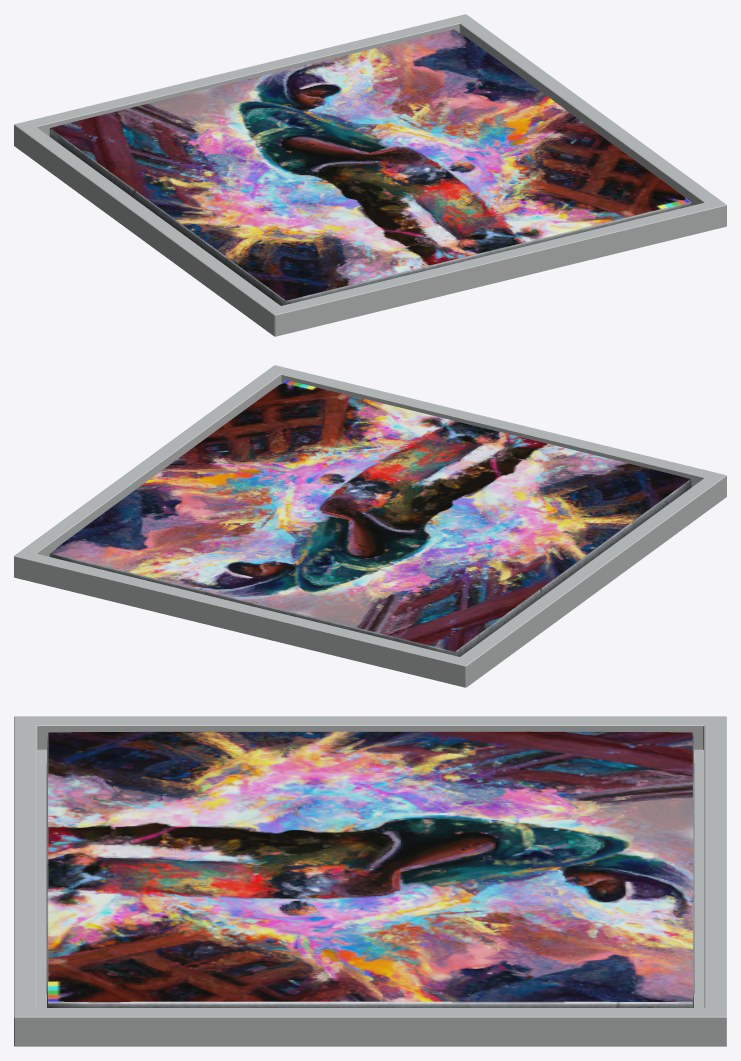
Rendered from GG_Level1_Asset_CafeArt1_001.fbx.
The picture shows the model from 3 angles, top to bottom: view 1: azimuth 30°, elevation 25°; view 2: azimuth 150°, elevation 25°; view 3: azimuth 270°, elevation 25°; orthographic projection. The views are drawn at different scales.
Parts seen in each view (by area): view 1: Original_frame1_cafe; view 2: Original_frame1_cafe; view 3: Original_frame1_cafe.
Part boxes in pixels (box(x1,y1,x2,y2)): Original_frame1_cafe: box(14, 14, 726, 336); Original_frame1_cafe: box(14, 365, 726, 687); Original_frame1_cafe: box(14, 716, 726, 1046).
Size of the model in its own units: 738 by 35.17 by 738.
Materials: 1 (1 with a texture image).
